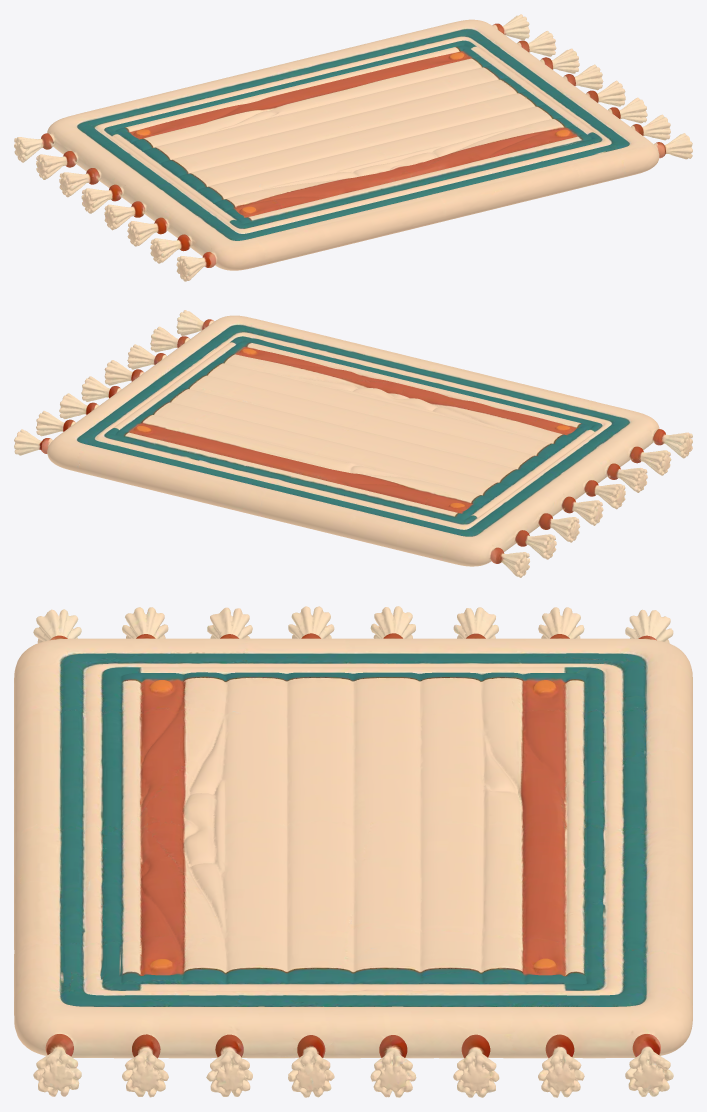
File: prayer-rug-variant-04-cream-terracotta-arch.glb
3 views of the same model, one above another, from view 1: azimuth 30°, elevation 25°; view 2: azimuth 150°, elevation 25°; view 3: azimuth 270°, elevation 25° (orthographic). The views are drawn at different scales.
Parts seen in each view (by area): view 1: mesh_node; view 2: mesh_node; view 3: mesh_node.
Boxes of the visible parts, <box> form: mesh_node: <box>14,14,692,281</box>; mesh_node: <box>14,310,692,577</box>; mesh_node: <box>14,606,692,1097</box>.
Bounding box in the file's own units: 1.9 × 0.1042 × 1.2.
Materials: 1 (1 with a texture image).
